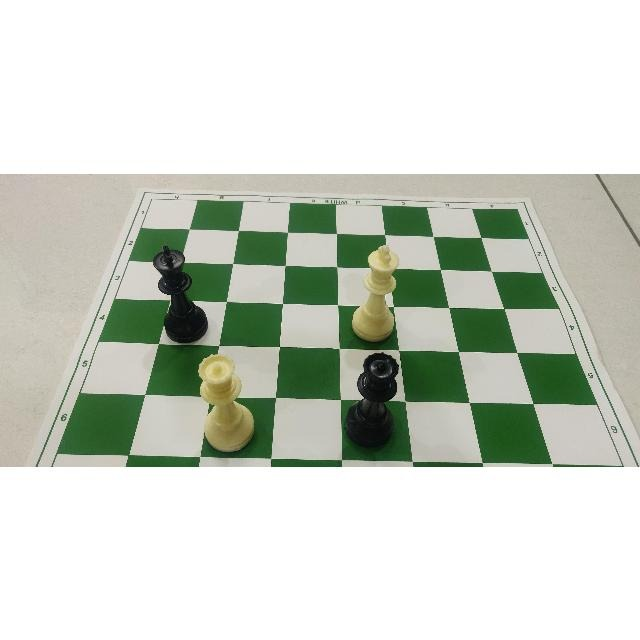black-king: (152, 245, 208, 343)
black-queen: (345, 353, 397, 447)
white-king: (351, 243, 405, 341)
white-queen: (195, 354, 257, 453)
